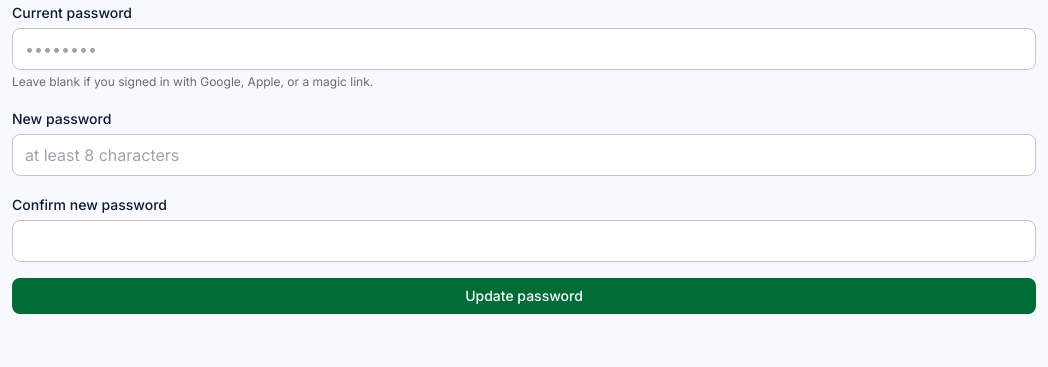
Test: ChangePasswordForm › blocks submit when the new passwords do not match
This screenshot has width=1048, height=367.
Step 1. Type "coral1234" into the password field with id "new-password" → (524,155), box [12,134,1036,176]
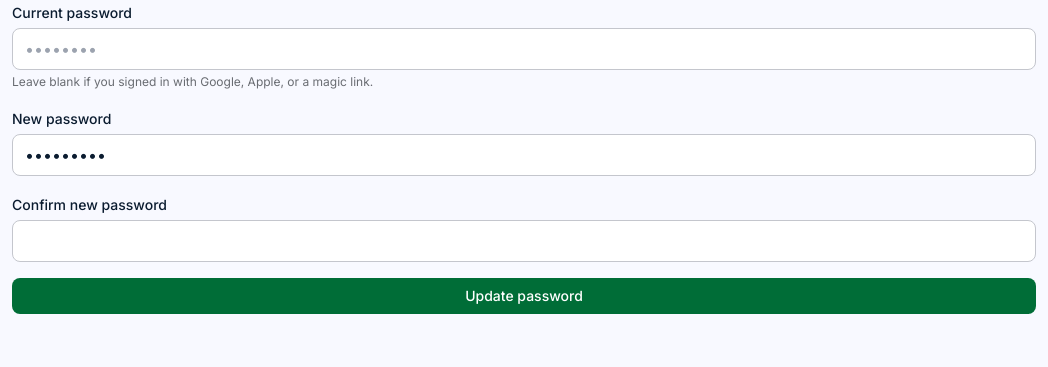
Step 2. Type "coral5678" into the password field with id "confirm-password" → (524,241), box [12,220,1036,262]
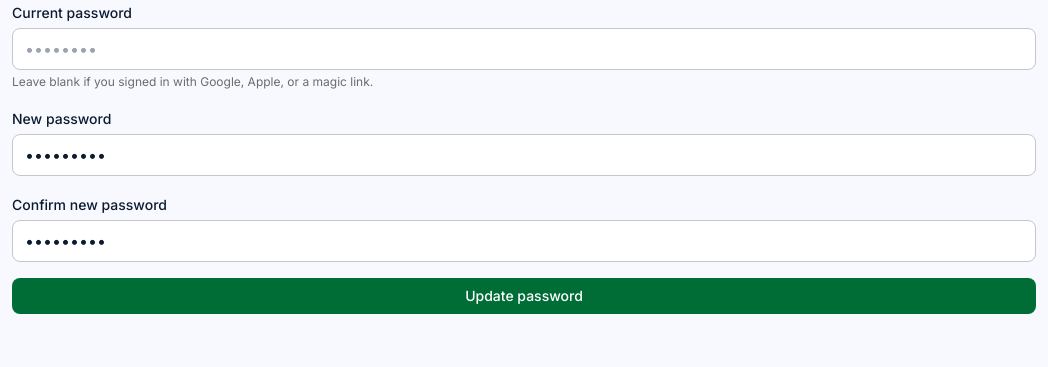
Step 3. Submit the form
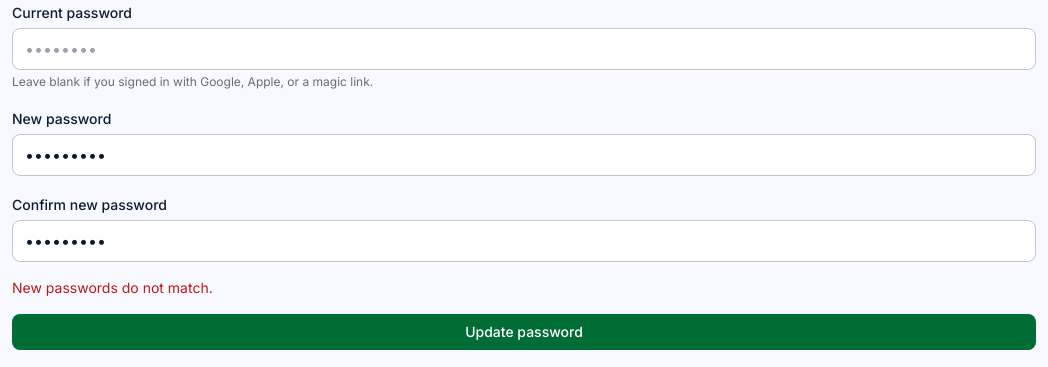
Now the form shows "New passwords do not match.", box [12,279,213,296]
